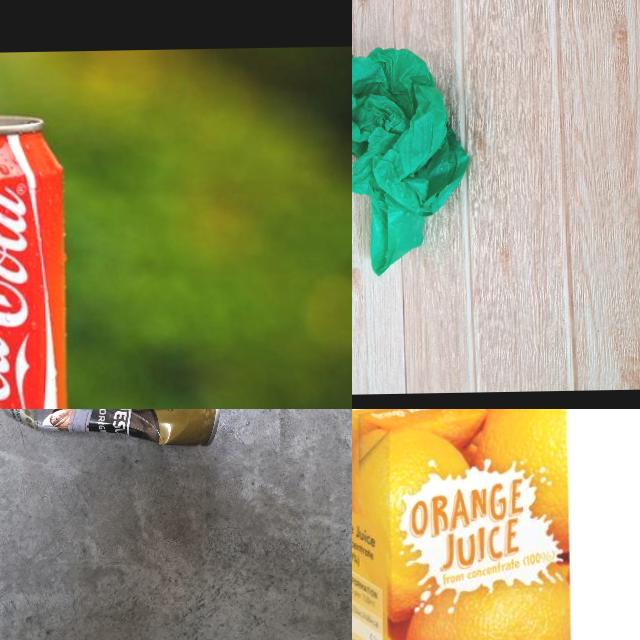caixinha: (352, 409, 577, 640)
lata: (0, 111, 70, 409), (0, 409, 222, 450)
sacola plástica: (352, 44, 474, 279)
